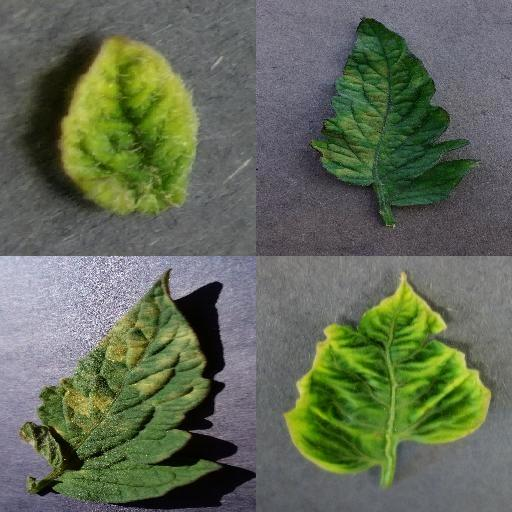Leaf Mold: (19, 269, 223, 505), (314, 15, 484, 209)
Yellow Leaf Curl Virus: (282, 268, 494, 474), (56, 34, 200, 216)
